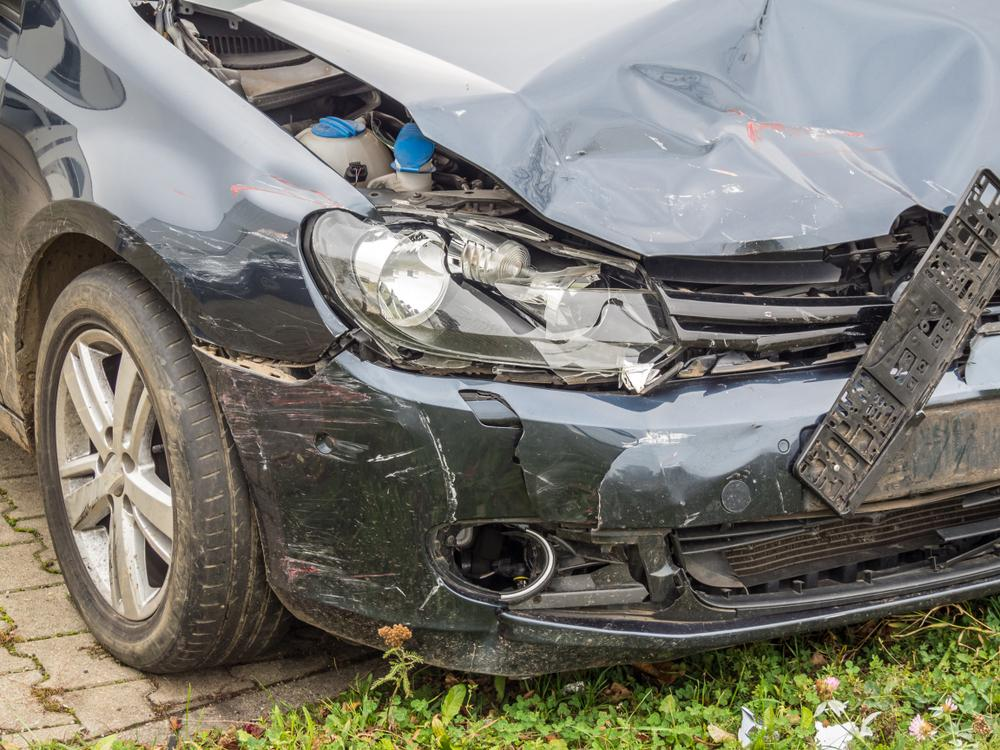crack: (593, 440, 639, 530), (512, 429, 544, 520)
dent: (407, 0, 989, 256), (247, 163, 350, 224)
lamp broken: (308, 207, 680, 391)
scratch: (204, 361, 418, 608), (151, 221, 300, 289)
